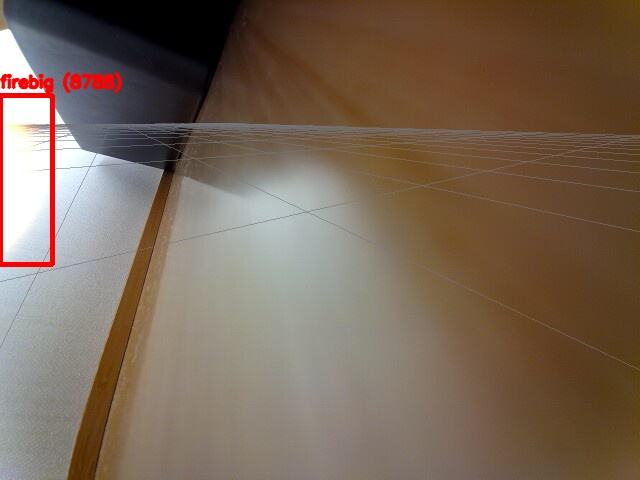firebig: (0, 95, 52, 264)
